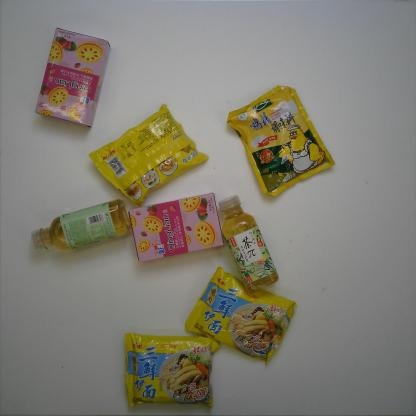Dessert: (34, 27, 112, 129), (128, 192, 225, 262)
Drink: (218, 193, 279, 293), (30, 198, 131, 252)
Instant Noodles: (87, 103, 210, 208), (184, 266, 298, 366), (123, 332, 221, 410)
Seasoner: (226, 86, 336, 198)
